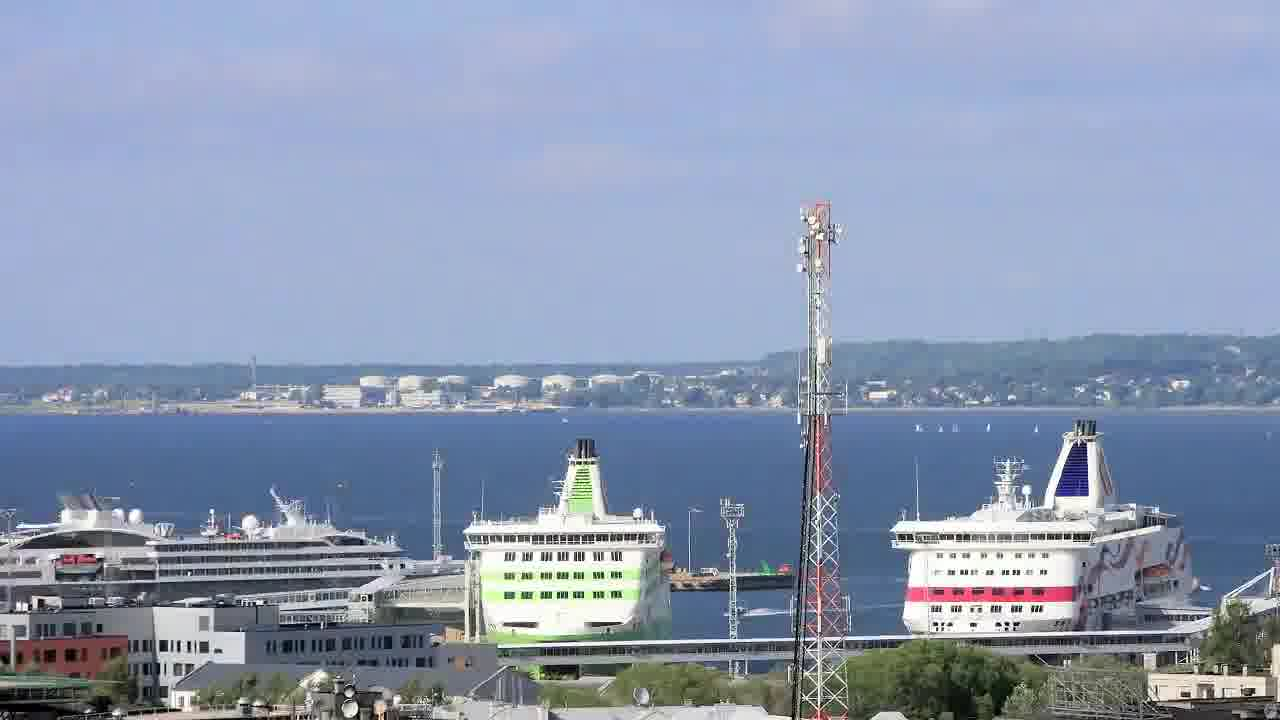type-0: (719, 585, 764, 624)
type-3: (868, 415, 1225, 638), (436, 434, 694, 670), (0, 467, 421, 607)
